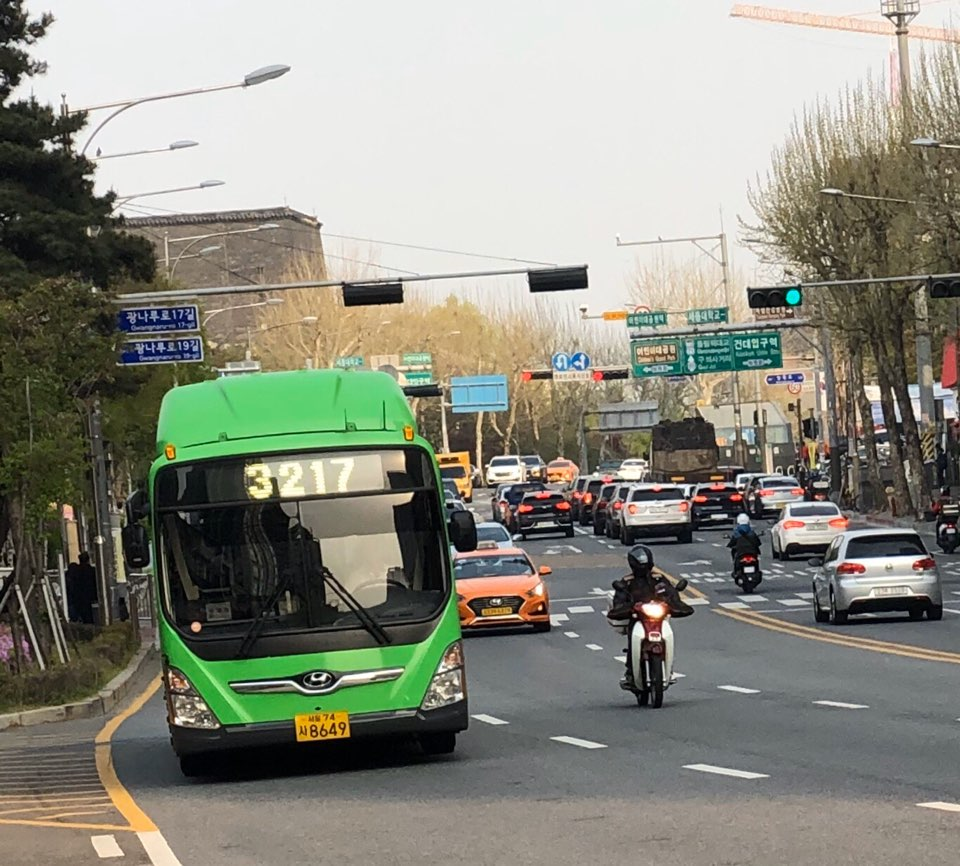bnum: (241, 457, 358, 501)
